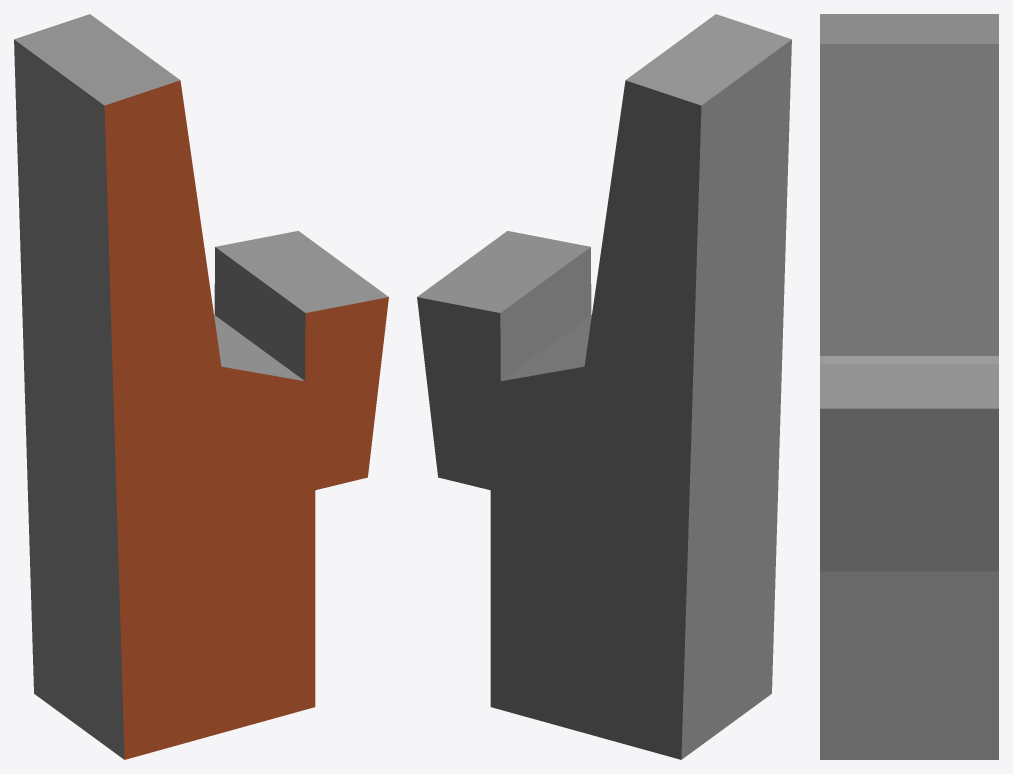
Rendered from construction_5086_assumed_A_Casa_h6m.obj.
3 renders of one model, left to right at view 1: azimuth 30°, elevation 25°; view 2: azimuth 150°, elevation 25°; view 3: azimuth 270°, elevation 25°, orthographic.
Visible parts, largest first — view 1: construction_5086_assumed_A_Casa; view 2: construction_5086_assumed_A_Casa; view 3: construction_5086_assumed_A_Casa.
Part boxes in pixels (box(x1,y1,x2,y2)): construction_5086_assumed_A_Casa: box(14, 14, 388, 759); construction_5086_assumed_A_Casa: box(417, 14, 791, 759); construction_5086_assumed_A_Casa: box(820, 14, 998, 759).
Size of the model in its own units: 10.89 by 24.35 by 6.
